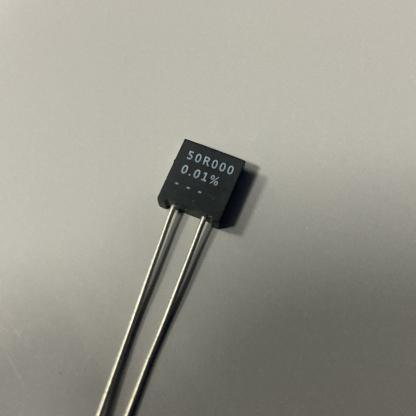SP0000008: (75, 104, 328, 416)
